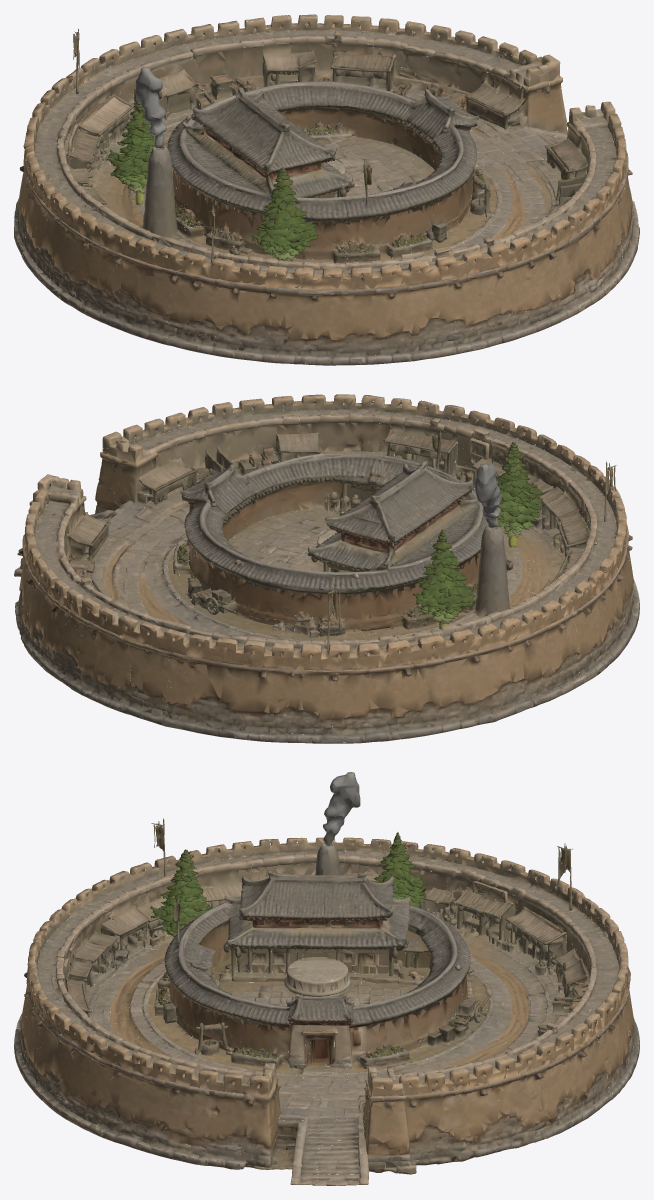
Rendered from tripo_city_detail_lod.glb.
3 views of the same model, one above another, from view 1: azimuth 30°, elevation 25°; view 2: azimuth 150°, elevation 25°; view 3: azimuth 270°, elevation 25° (orthographic).
Parts seen in each view (by area): view 1: tripo_node_92445818-8294-47c9-af98-41f42d8d8bcf; view 2: tripo_node_92445818-8294-47c9-af98-41f42d8d8bcf; view 3: tripo_node_92445818-8294-47c9-af98-41f42d8d8bcf.
Part boxes in pixels (<box>): tripo_node_92445818-8294-47c9-af98-41f42d8d8bcf: <box>14,14,639,365</box>; tripo_node_92445818-8294-47c9-af98-41f42d8d8bcf: <box>14,394,639,743</box>; tripo_node_92445818-8294-47c9-af98-41f42d8d8bcf: <box>14,772,639,1185</box>.
Size of the model in its own units: 0.9809 by 0.3294 by 0.9652.
Materials: 1 (1 with a texture image).
